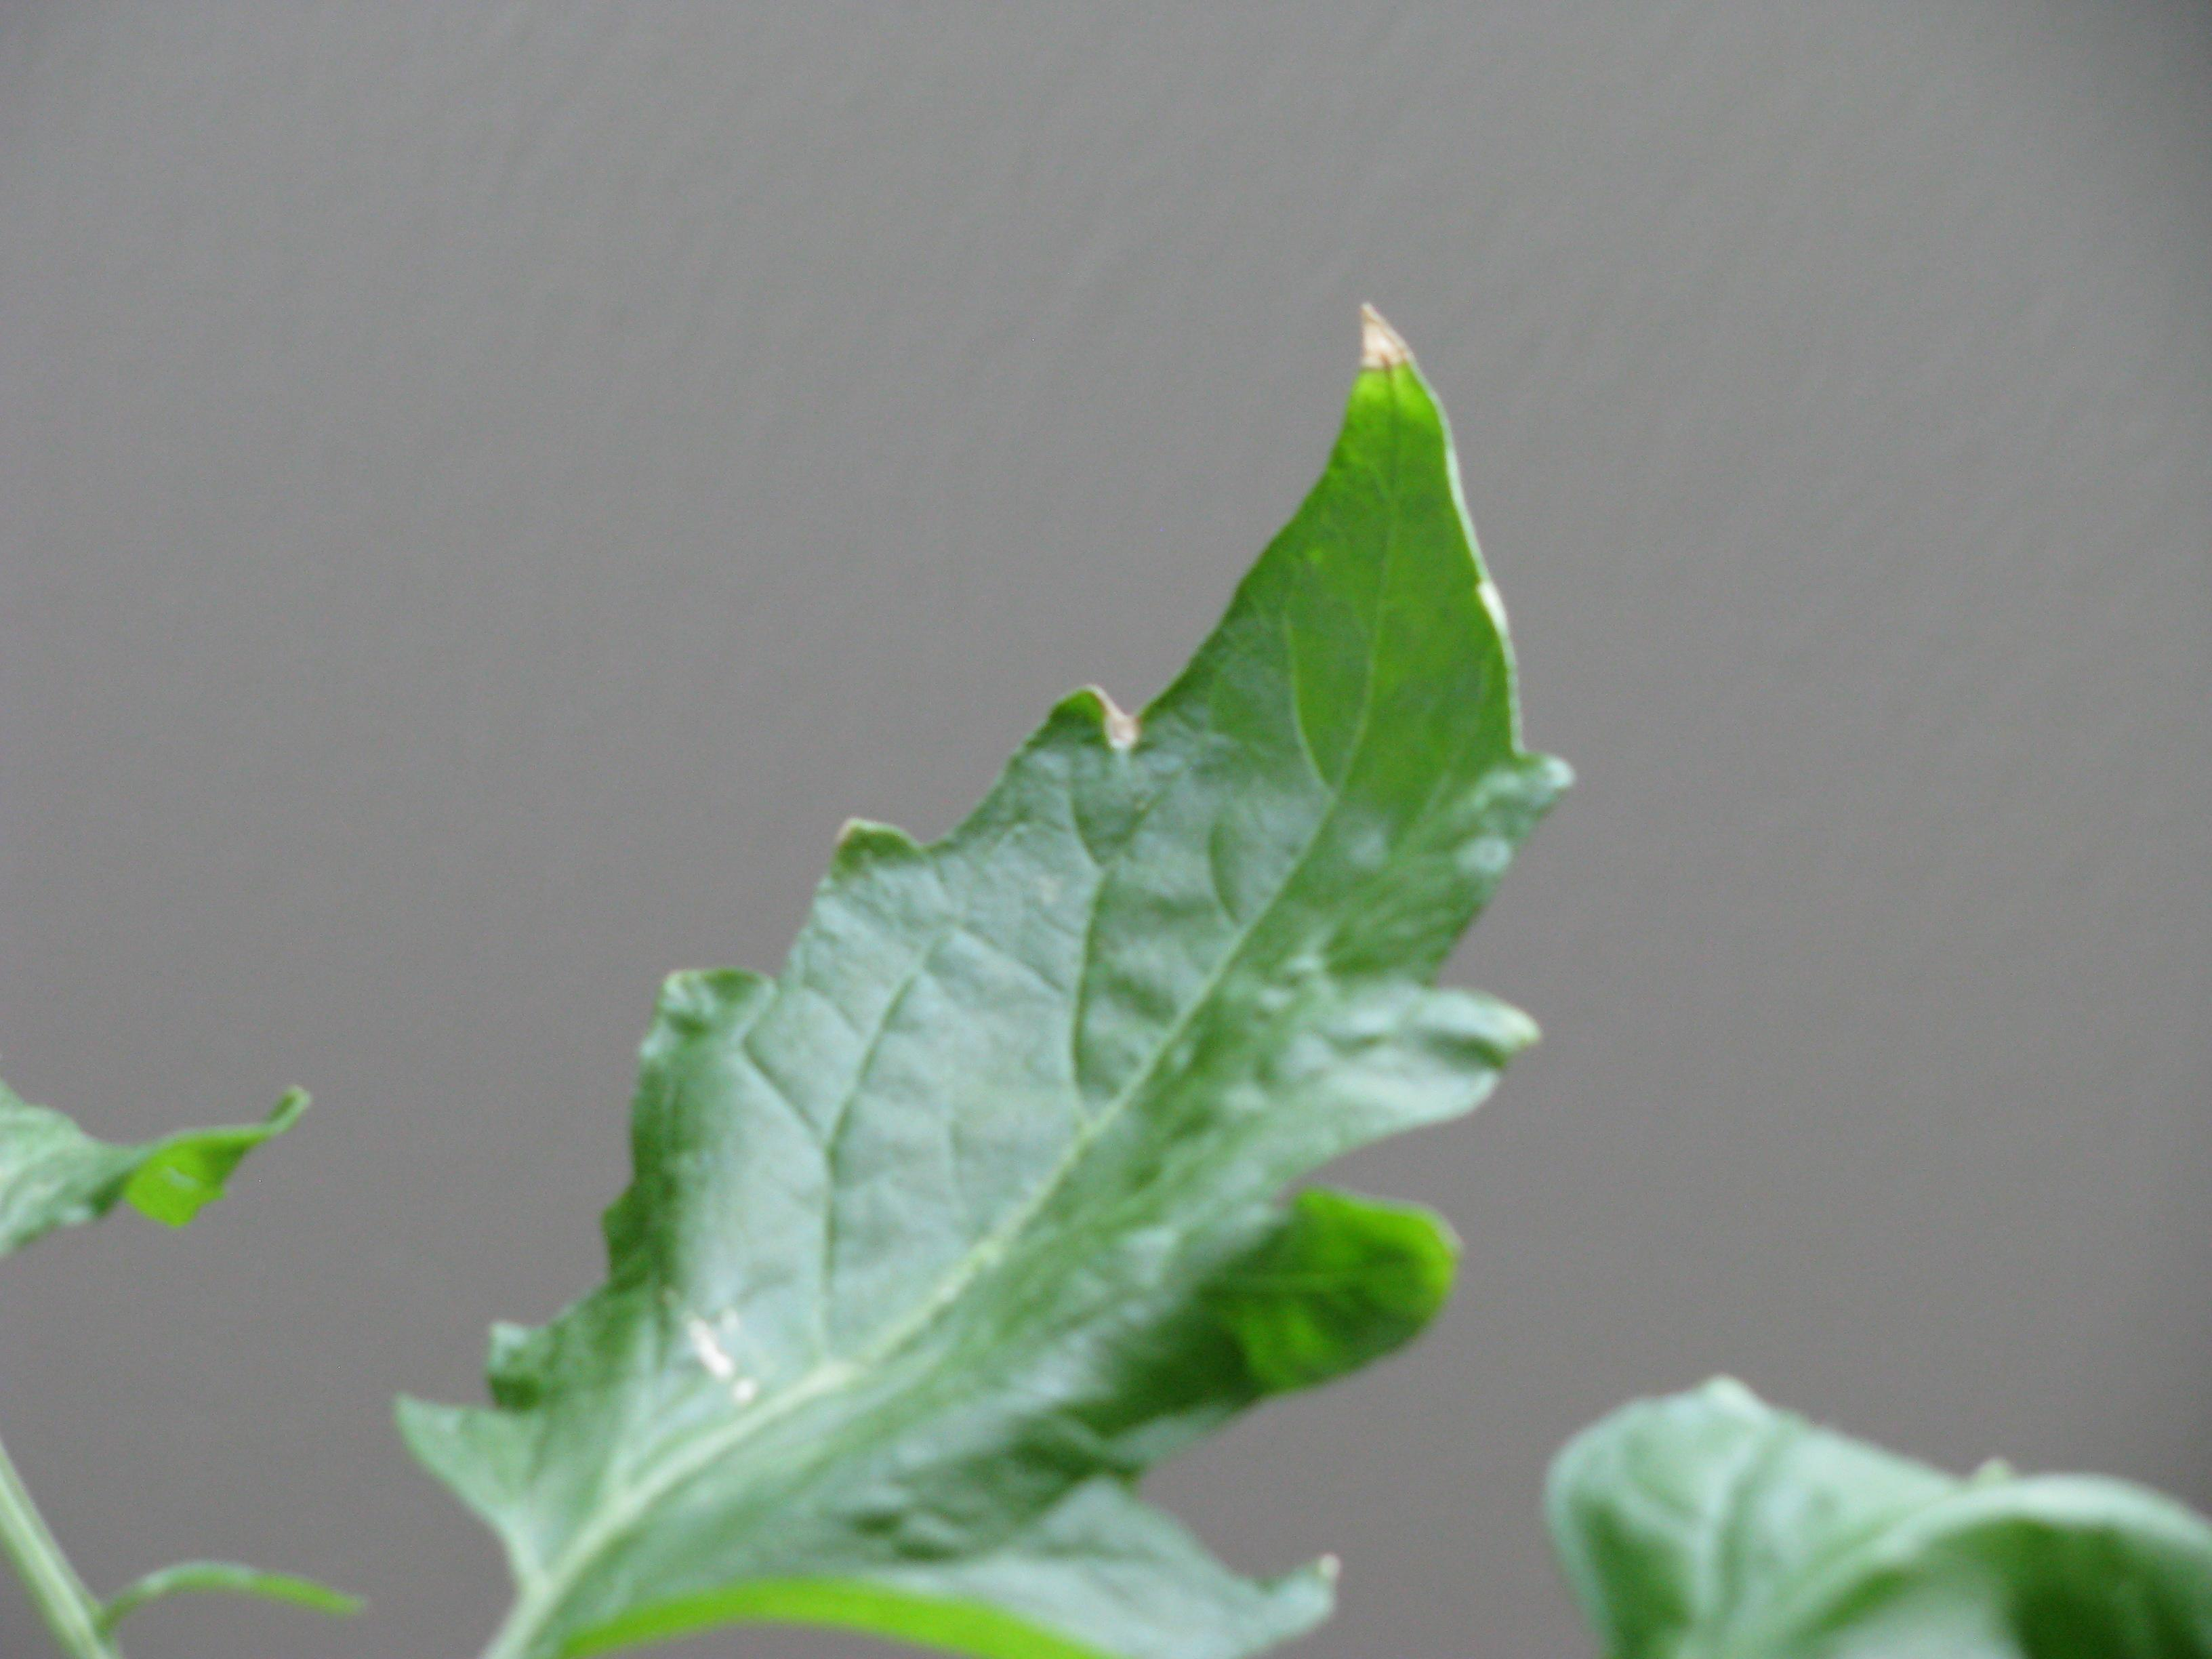Tomato leaf bacterial spot: (380, 274, 1569, 1624)
